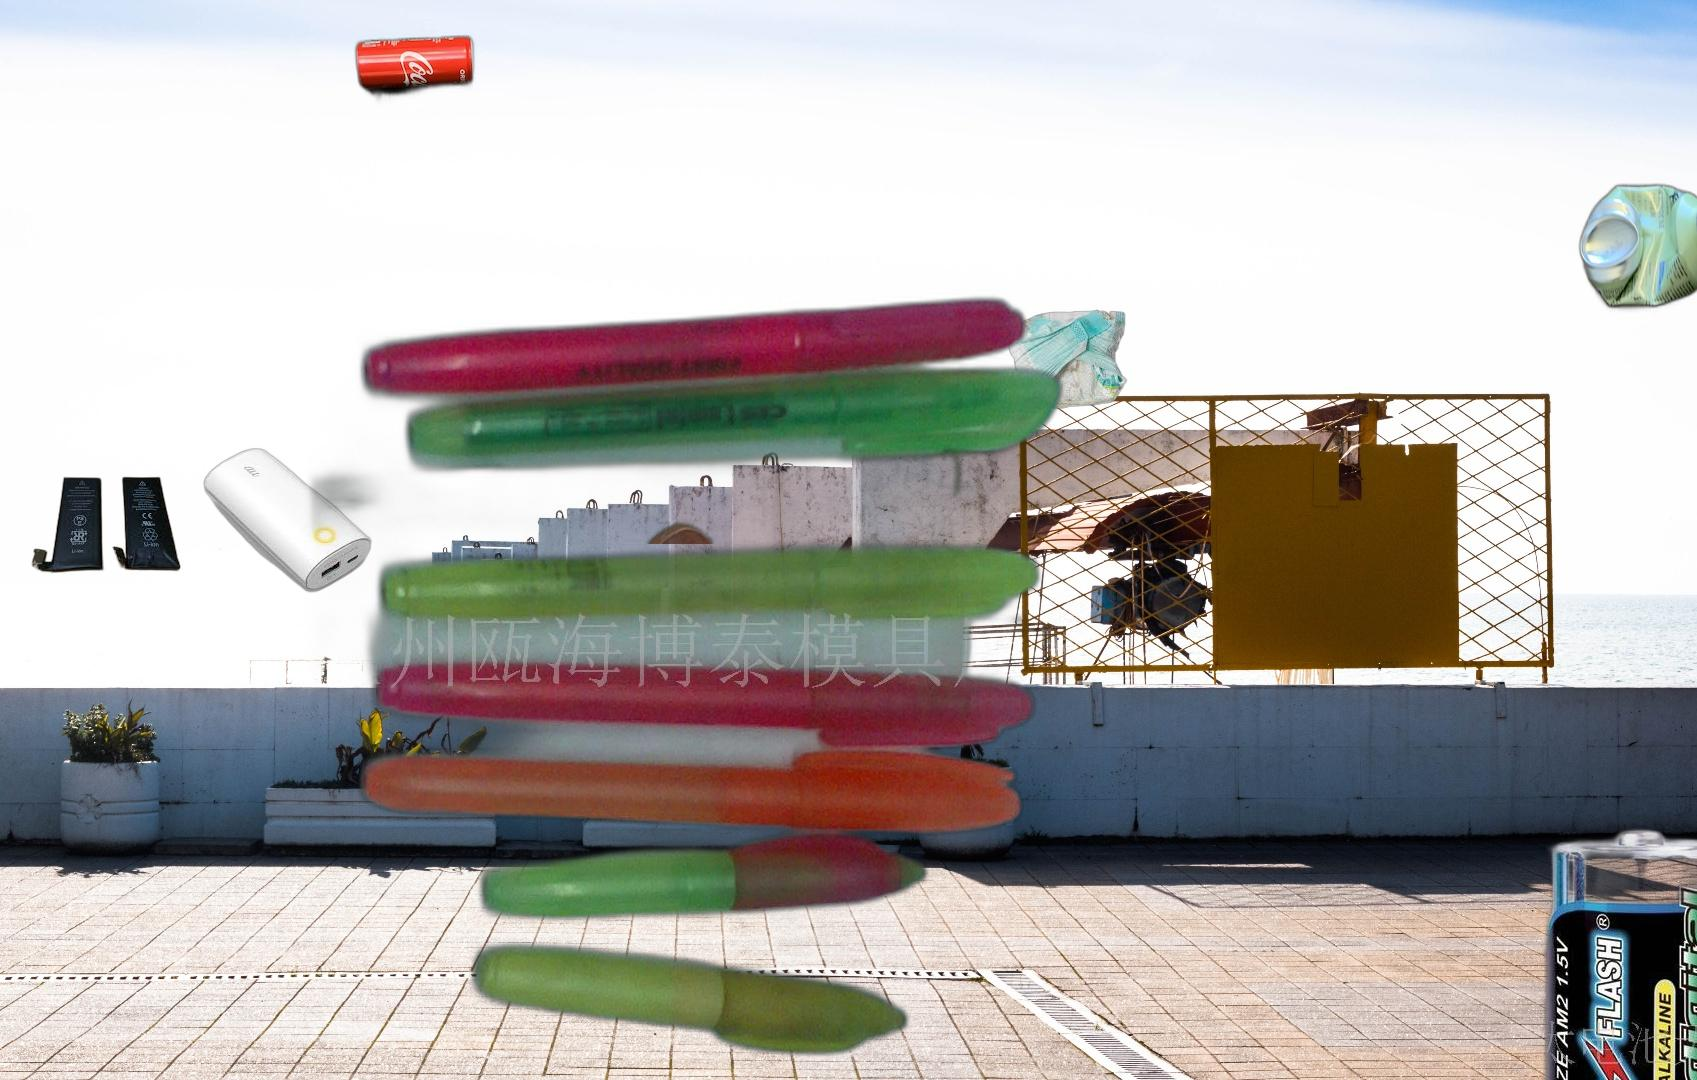battery: (1450, 795, 1697, 1080), (202, 447, 374, 594), (28, 474, 183, 576)
metal-cans: (249, 31, 717, 544), (1575, 179, 1697, 314)
penholder: (234, 289, 1079, 1080)
trash: (1004, 307, 1129, 414)
